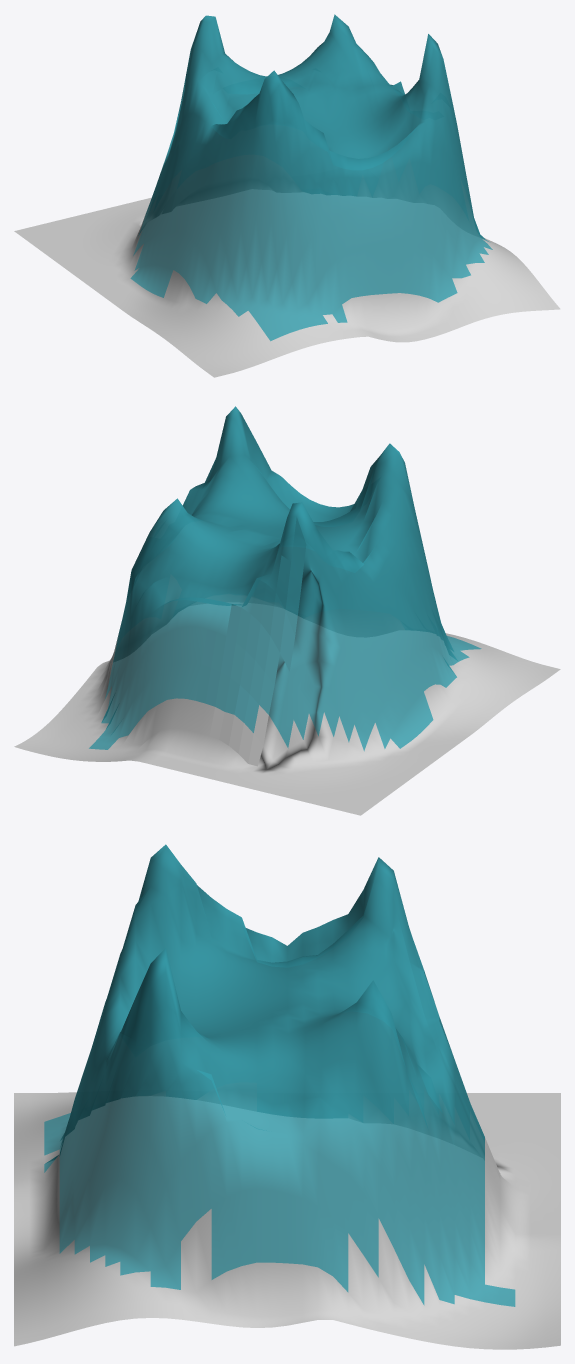
The model's file is Iceend.fbx.
3 renders of one model, top to bottom at view 1: azimuth 30°, elevation 25°; view 2: azimuth 150°, elevation 25°; view 3: azimuth 270°, elevation 25°, orthographic. The views are drawn at different scales.
Visible parts, largest first — view 1: Grid; view 2: Grid; view 3: Grid.
Boxes of the visible parts, x1,y1,x2,y2 form: Grid: (14,14,560,377); Grid: (14,406,560,815); Grid: (14,844,560,1349).
Size of the model in its own units: 200 by 142 by 200.
